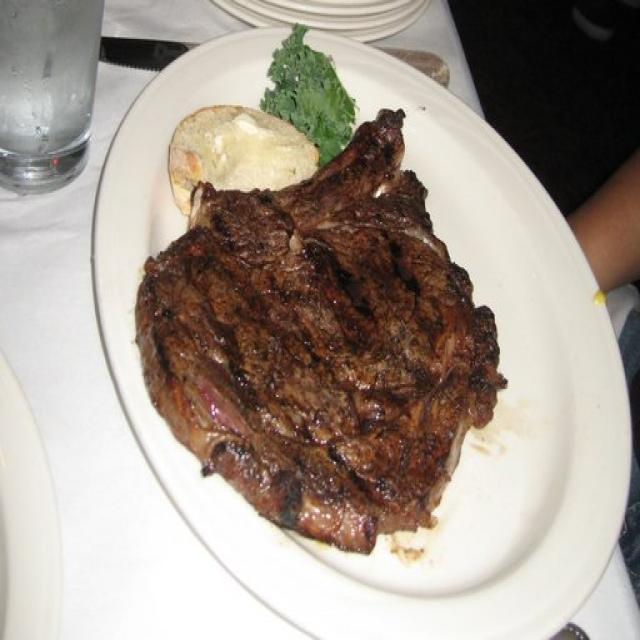Steak: (91, 141, 530, 577)
